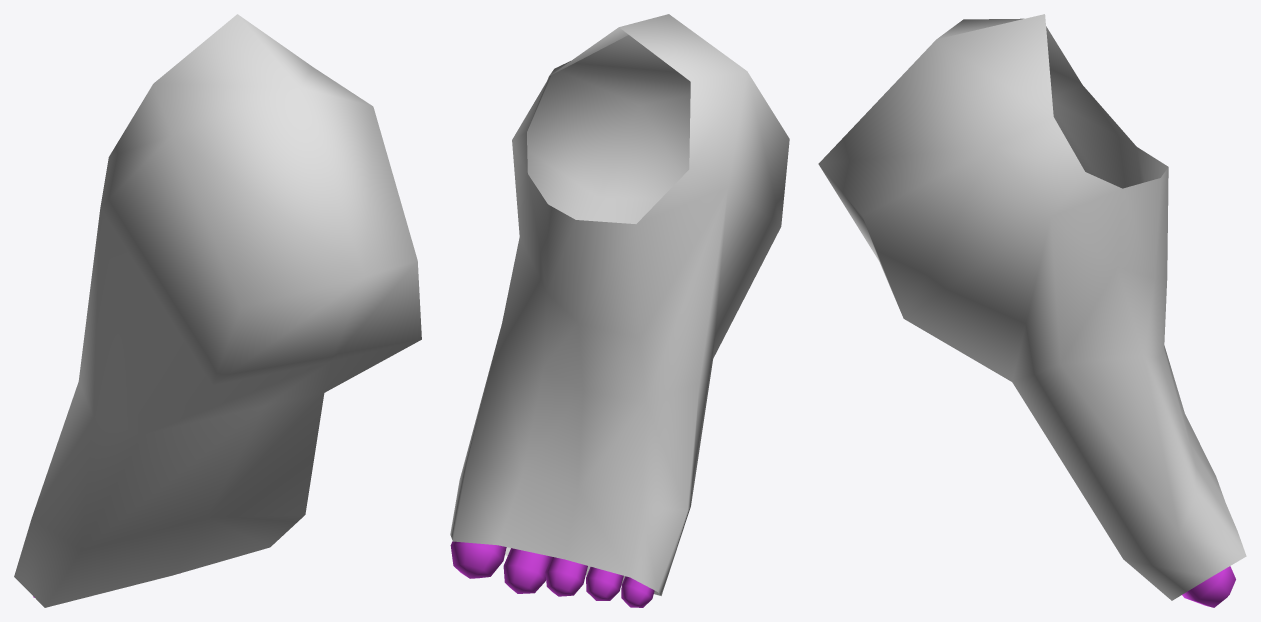
The model's file is foot.gltf.
3 views of the same model, side by side, from view 1: azimuth 30°, elevation 25°; view 2: azimuth 150°, elevation 25°; view 3: azimuth 270°, elevation 25° (orthographic). The views are drawn at different scales.
Parts seen in each view (by area): view 1: LEFT_FOOT; view 2: LEFT_FOOT; view 3: LEFT_FOOT.
Boxes of the visible parts, box(x1,y1,x2,y2) form: LEFT_FOOT: box(14, 14, 421, 607); LEFT_FOOT: box(450, 14, 789, 607); LEFT_FOOT: box(818, 14, 1246, 607).
Size of the model in its own units: 0.0987 by 0.2192 by 0.1517.
